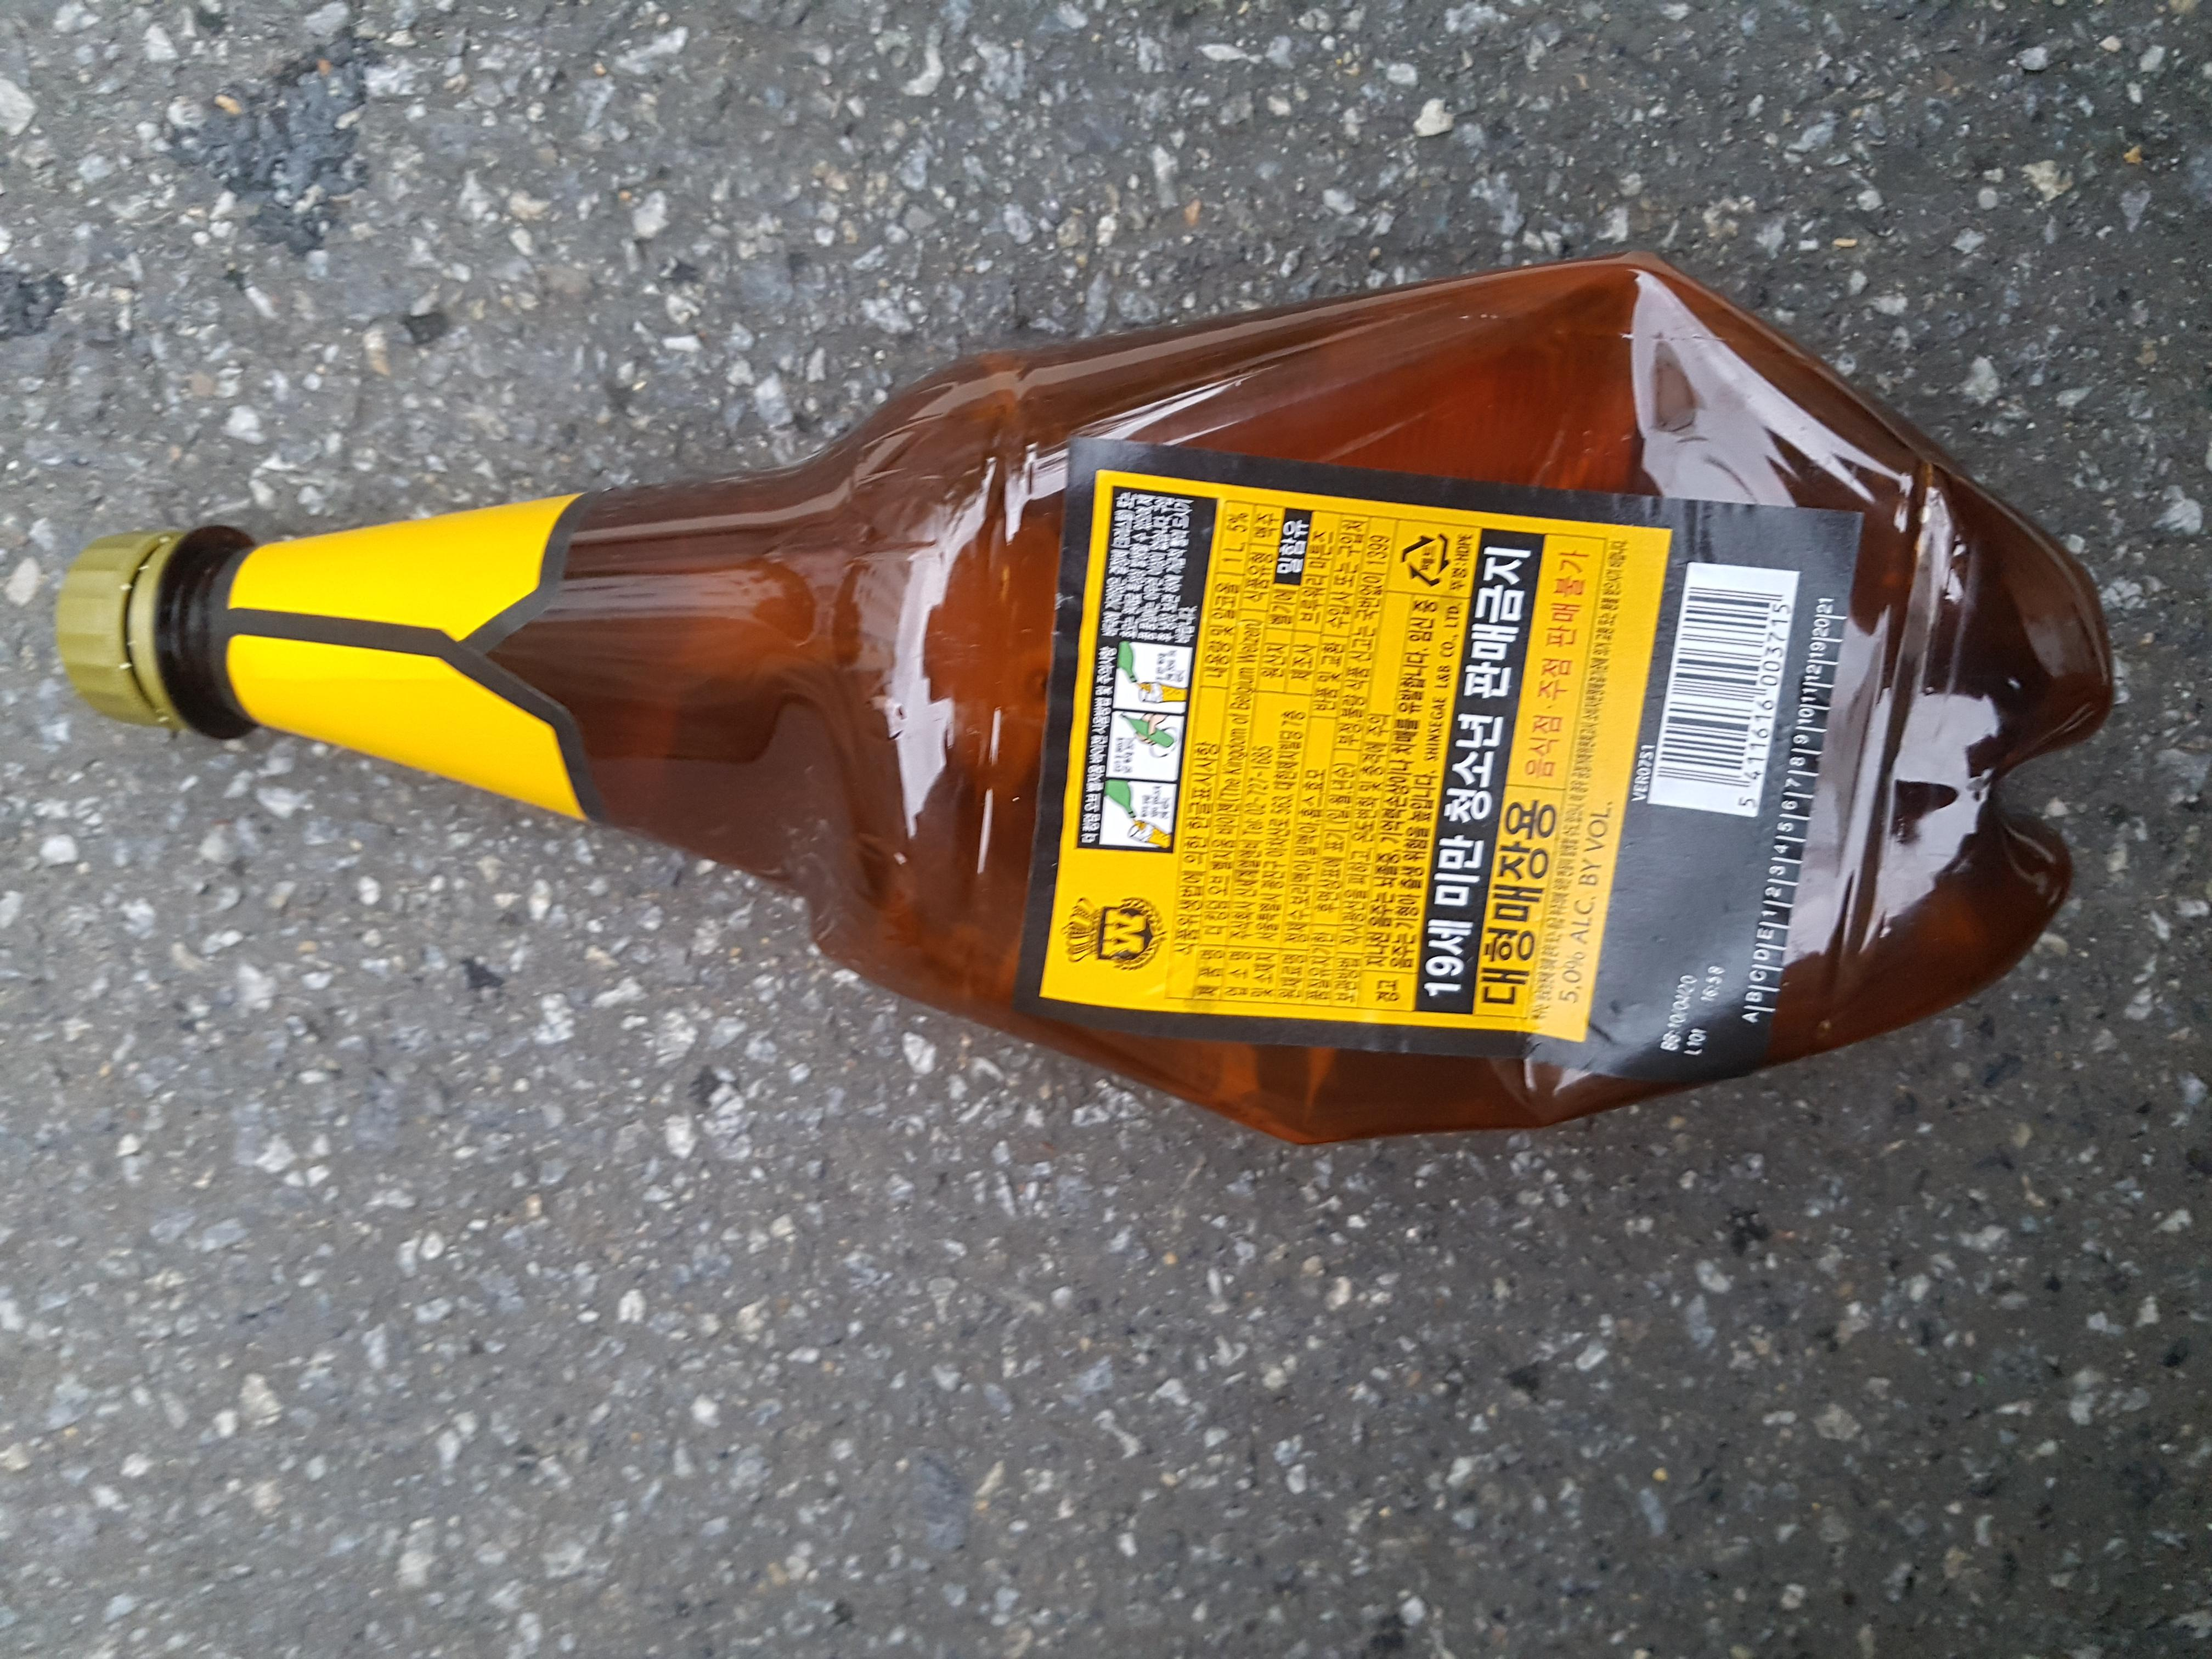bottle: (726, 23, 1911, 1622)
